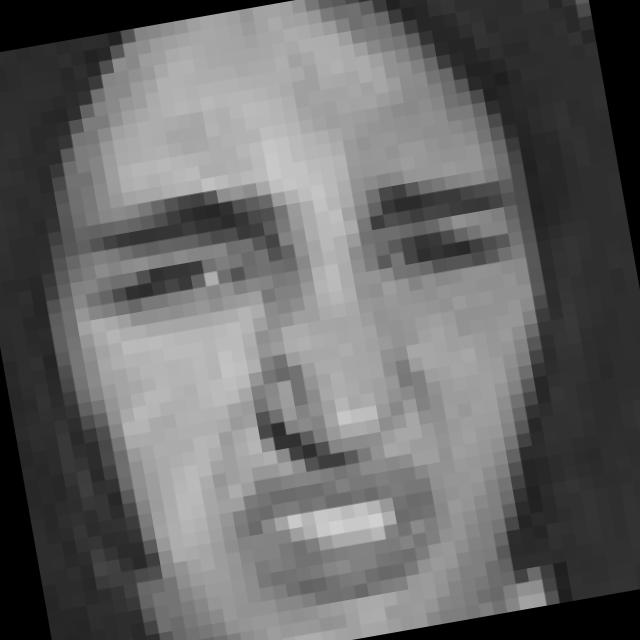disgust: (76, 136, 582, 635)
